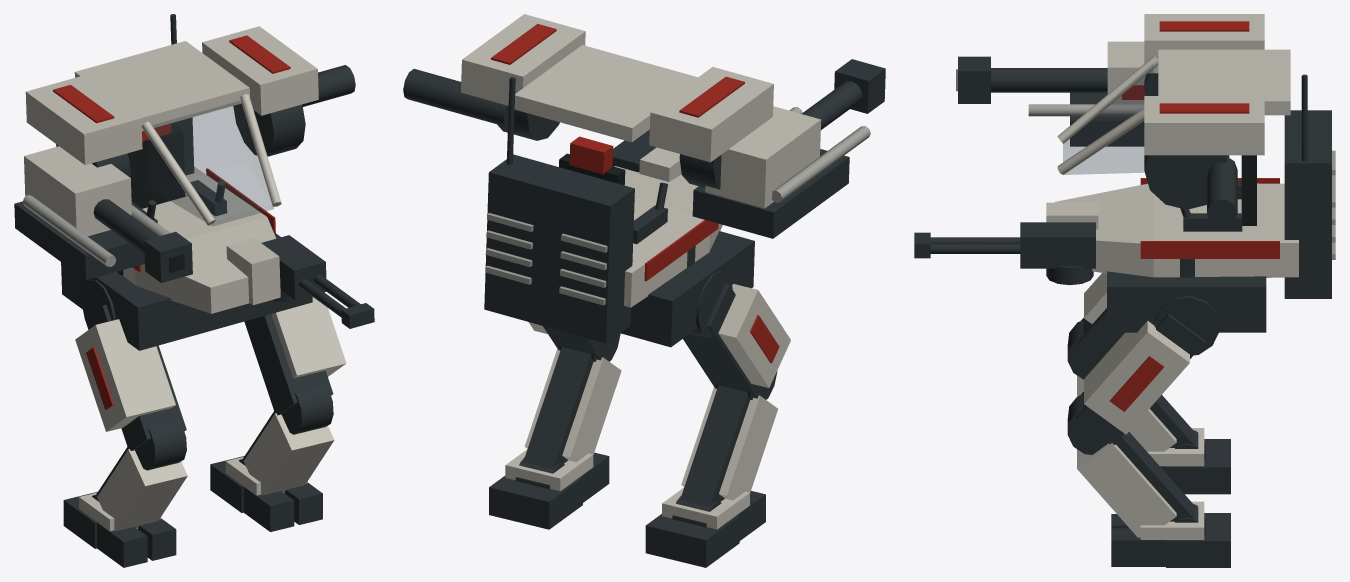
3 views of the same model, side by side, from view 1: azimuth 30°, elevation 25°; view 2: azimuth 150°, elevation 25°; view 3: azimuth 270°, elevation 25° (orthographic). The views are drawn at different scales.
Visible parts, largest first — view 1: mech-torso-painted, mech-torso-glazing, mech-cannon-recoil-painted, mech-hip-0-painted, mech-hip-1-painted, mech-knee-0-painted, mech-knee-1-painted, mech-cannon-pitch-painted, mech-ankle-0-painted, mech-ankle-1-painted, mech-seat-pilot-painted, mech-mg-pitch-chin-painted (+1 smaller); view 2: mech-torso-painted, mech-cannon-recoil-painted, mech-hip-0-painted, mech-knee-1-painted, mech-knee-0-painted, mech-cannon-pitch-painted, mech-ankle-0-painted, mech-ankle-1-painted, mech-seat-pilot-painted, breakaway-0-painted, mech-hip-1-painted, mech-mg-pitch-chin-painted; view 3: mech-torso-painted, mech-hip-1-painted, mech-knee-1-painted, mech-cannon-recoil-painted, mech-ankle-1-painted, mech-mg-pitch-chin-painted, mech-torso-glazing, mech-ankle-0-painted, mech-knee-0-painted, mech-cannon-pitch-painted, mech-hip-0-painted, mech-seat-pilot-painted (+2 smaller).
Part boxes in pixels (left/top/right/bottom): mech-torso-painted: left=25, top=14, right=355, bottom=350; mech-torso-glazing: left=149, top=100, right=273, bottom=225; mech-cannon-recoil-painted: left=24, top=146, right=192, bottom=282; mech-hip-0-painted: left=75, top=280, right=186, bottom=450; mech-hip-1-painted: left=244, top=297, right=346, bottom=415; mech-knee-0-painted: left=96, top=420, right=187, bottom=531; mech-knee-1-painted: left=242, top=384, right=334, bottom=495; mech-cannon-pitch-painted: left=14, top=195, right=170, bottom=280; mech-ankle-0-painted: left=63, top=491, right=176, bottom=567; mech-ankle-1-painted: left=210, top=456, right=322, bottom=531; mech-seat-pilot-painted: left=128, top=123, right=227, bottom=223; mech-mg-pitch-chin-painted: left=261, top=235, right=374, bottom=328; mech-torso-painted: left=403, top=14, right=773, bottom=347; mech-cannon-recoil-painted: left=705, top=59, right=885, bottom=208; mech-hip-0-painted: left=683, top=271, right=790, bottom=398; mech-knee-1-painted: left=523, top=333, right=621, bottom=468; mech-knee-0-painted: left=680, top=371, right=777, bottom=507; mech-cannon-pitch-painted: left=692, top=107, right=870, bottom=238; mech-ankle-0-painted: left=645, top=487, right=765, bottom=567; mech-ankle-1-painted: left=489, top=449, right=609, bottom=529; mech-seat-pilot-painted: left=559, top=136, right=667, bottom=244; breakaway-0-painted: left=639, top=147, right=681, bottom=181; mech-hip-1-painted: left=528, top=322, right=610, bottom=360; mech-mg-pitch-chin-painted: left=612, top=130, right=656, bottom=172; mech-torso-painted: left=1054, top=14, right=1335, bottom=332; mech-hip-1-painted: left=1076, top=296, right=1219, bottom=444; mech-knee-1-painted: left=1067, top=394, right=1194, bottom=537; mech-cannon-recoil-painted: left=956, top=41, right=1145, bottom=104; mech-ankle-1-painted: left=1111, top=501, right=1230, bottom=567; mech-mg-pitch-chin-painted: left=914, top=222, right=1095, bottom=268; mech-torso-glazing: left=1063, top=64, right=1153, bottom=174; mech-ankle-0-painted: left=1147, top=428, right=1230, bottom=494; mech-knee-0-painted: left=1067, top=320, right=1194, bottom=451; mech-cannon-pitch-painted: left=1028, top=92, right=1144, bottom=146; mech-hip-0-painted: left=1076, top=273, right=1124, bottom=362; mech-seat-pilot-painted: left=1180, top=155, right=1256, bottom=231.
Bounding box in the file's own units: 19.09 × 24.31 × 20.04.
